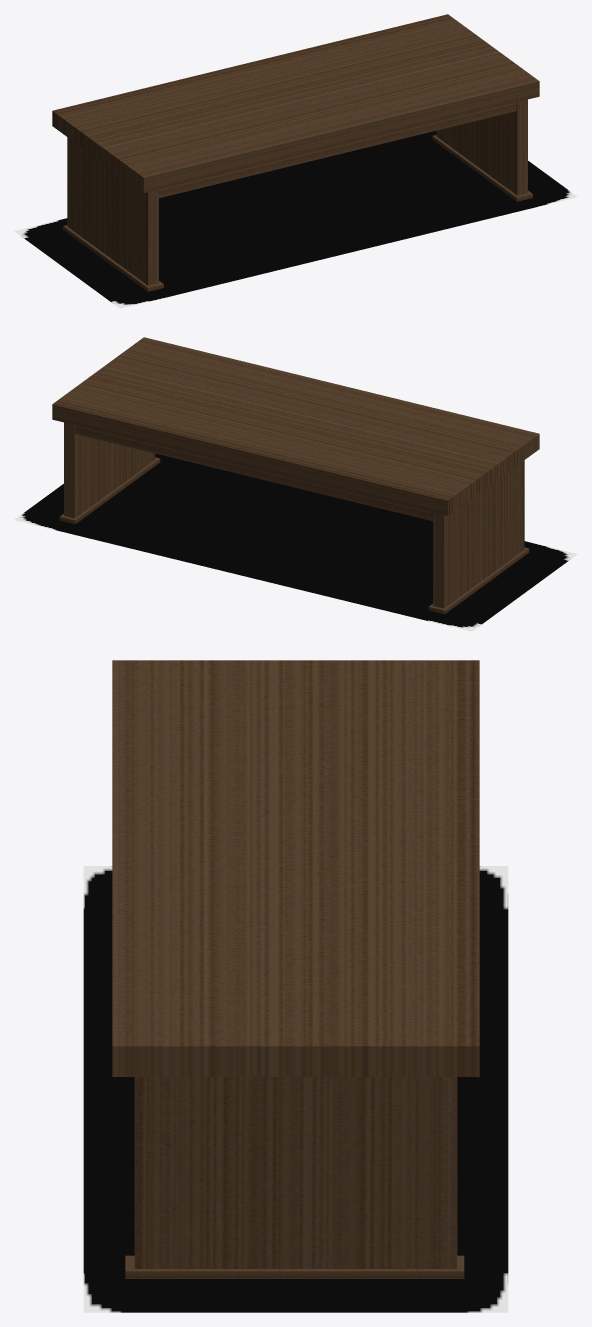
File: jj_rixi_zhuozi01.FBX
The picture shows the model from 3 angles, top to bottom: view 1: azimuth 30°, elevation 25°; view 2: azimuth 150°, elevation 25°; view 3: azimuth 270°, elevation 25°; orthographic projection. The views are drawn at different scales.
Parts seen in each view (by area): view 1: jj_rixi_zhuozi01, shadow; view 2: jj_rixi_zhuozi01, shadow; view 3: jj_rixi_zhuozi01, shadow.
Part boxes in pixels (<box>): jj_rixi_zhuozi01: <box>52,14,539,291</box>; shadow: <box>14,130,577,308</box>; jj_rixi_zhuozi01: <box>52,337,539,614</box>; shadow: <box>14,453,577,631</box>; jj_rixi_zhuozi01: <box>112,660,479,1278</box>; shadow: <box>83,866,508,1312</box>.
Bounding box in the file's own units: 99.41 × 25.09 × 39.92.
